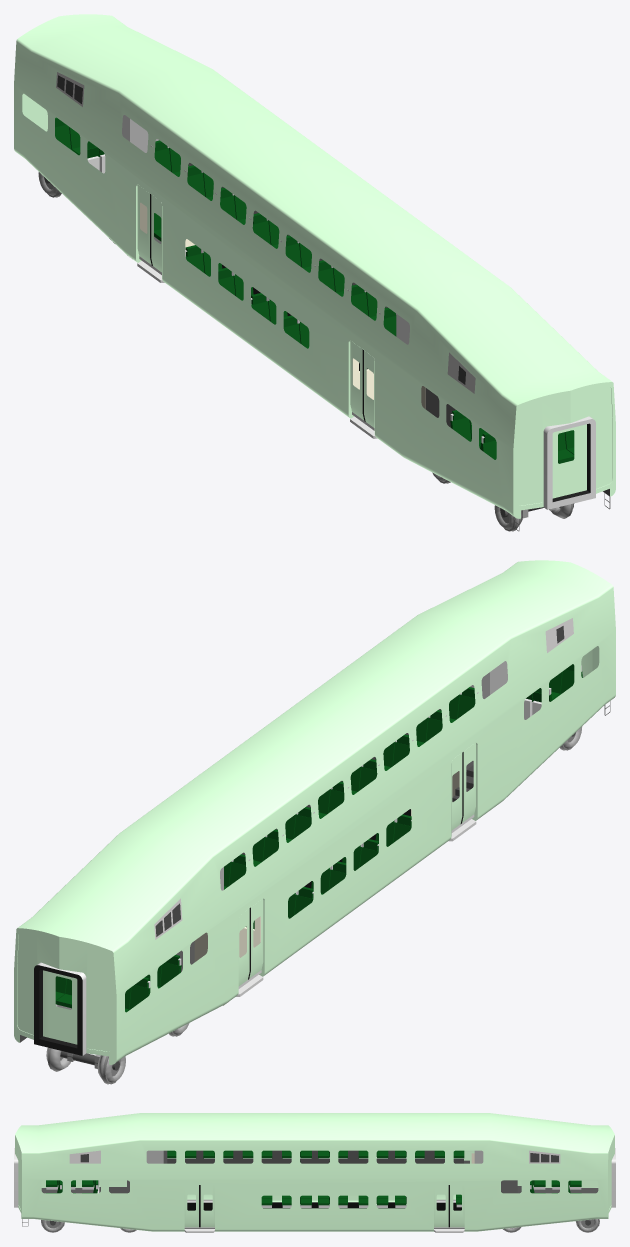
Rendered from bombardier-bi-level-railcar.glb.
The picture shows the model from 3 angles, top to bottom: view 1: azimuth 30°, elevation 25°; view 2: azimuth 150°, elevation 25°; view 3: azimuth 270°, elevation 25°; orthographic projection. The views are drawn at different scales.
Visible parts, largest first — view 1: group_8, group_10, instance_102, instance_202_1, instance_201_1; view 2: group_8, group_10, instance_130, instance_202_1, instance_201_1; view 3: group_8, Box_4_1, instance_202, instance_201, group_10 (×2), instance_102, instance_124, instance_130, Box_46_1.
Boxes of the visible parts, x1,y1,x2,y2 form: group_8: (14, 14, 611, 516); group_10: (513, 382, 615, 518); instance_102: (543, 416, 595, 509); instance_202_1: (348, 340, 377, 438); instance_201_1: (136, 184, 164, 282); group_8: (18, 560, 615, 1062); group_10: (14, 928, 116, 1064); instance_130: (34, 962, 86, 1055); instance_202_1: (449, 742, 477, 841); instance_201_1: (236, 898, 264, 996); group_8: (15, 1113, 614, 1231); Box_4_1: (167, 1150, 463, 1163); instance_202: (184, 1185, 214, 1232); instance_201: (434, 1185, 464, 1232); group_10 (×2): (15, 1135, 614, 1218); instance_102: (14, 1148, 18, 1207); instance_124: (534, 1188, 598, 1193); instance_130: (611, 1148, 615, 1207); Box_46_1: (146, 1150, 163, 1163).
Size of the model in its own units: 3 by 4.96 by 26.
